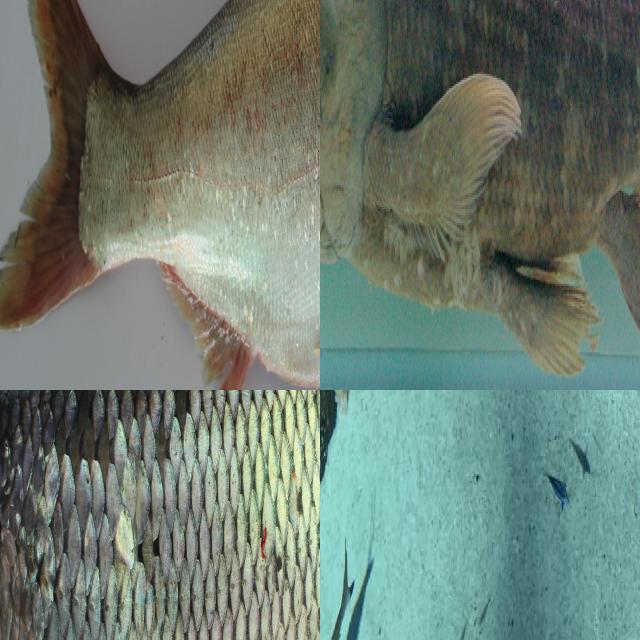fish: (0, 0, 320, 390), (320, 0, 640, 376), (0, 390, 320, 640)
